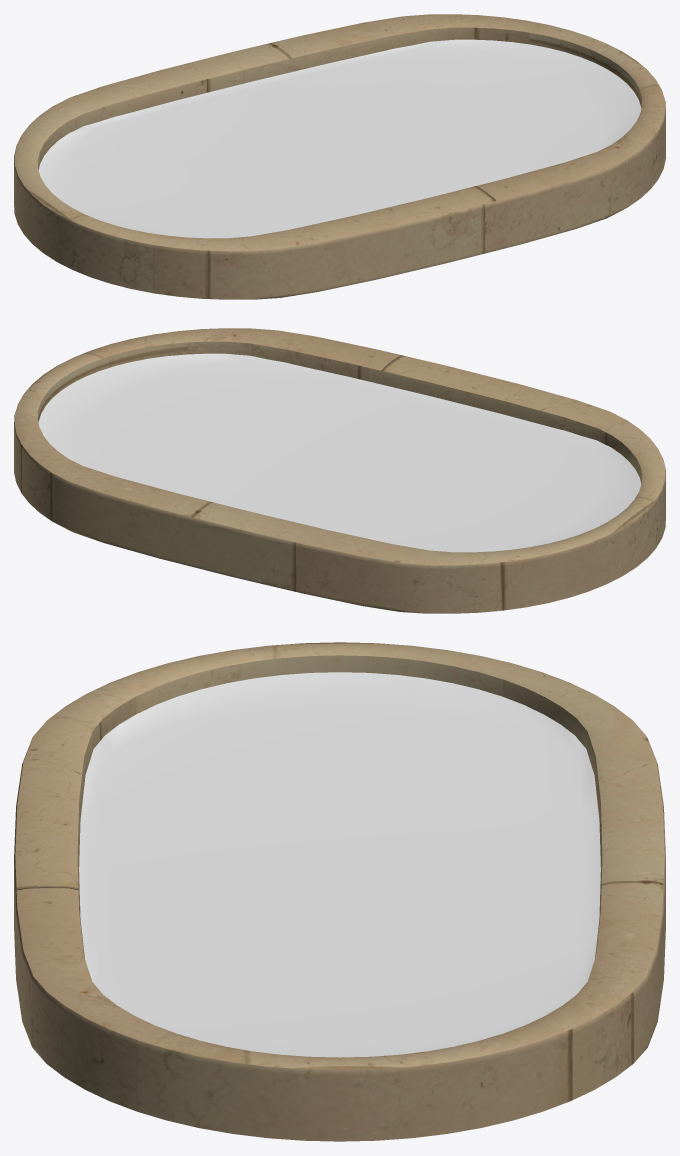
Rendered from JardineroJacarandaLoong.fbx.
3 renders of one model, top to bottom at view 1: azimuth 30°, elevation 25°; view 2: azimuth 150°, elevation 25°; view 3: azimuth 270°, elevation 25°, orthographic. The views are drawn at different scales.
Parts seen in each view (by area): view 1: Circle.001, Circle; view 2: Circle.001, Circle; view 3: Circle.001, Circle.
Part boxes in pixels (<box>): Circle.001: <box>38,39,641,238</box>; Circle: <box>14,14,665,299</box>; Circle.001: <box>38,353,641,552</box>; Circle: <box>14,328,665,613</box>; Circle.001: <box>79,672,600,1057</box>; Circle: <box>14,642,665,1141</box>.
Size of the model in its own units: 282 by 23.46 by 181.
